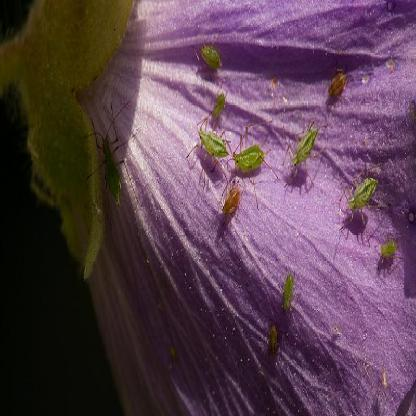aphid: (86, 98, 138, 204), (338, 162, 378, 244), (233, 124, 276, 198), (287, 108, 324, 190), (194, 113, 230, 177), (195, 24, 228, 80), (219, 167, 244, 228), (323, 62, 354, 103), (377, 228, 398, 270), (282, 270, 298, 316), (210, 88, 228, 128), (267, 317, 281, 356)
